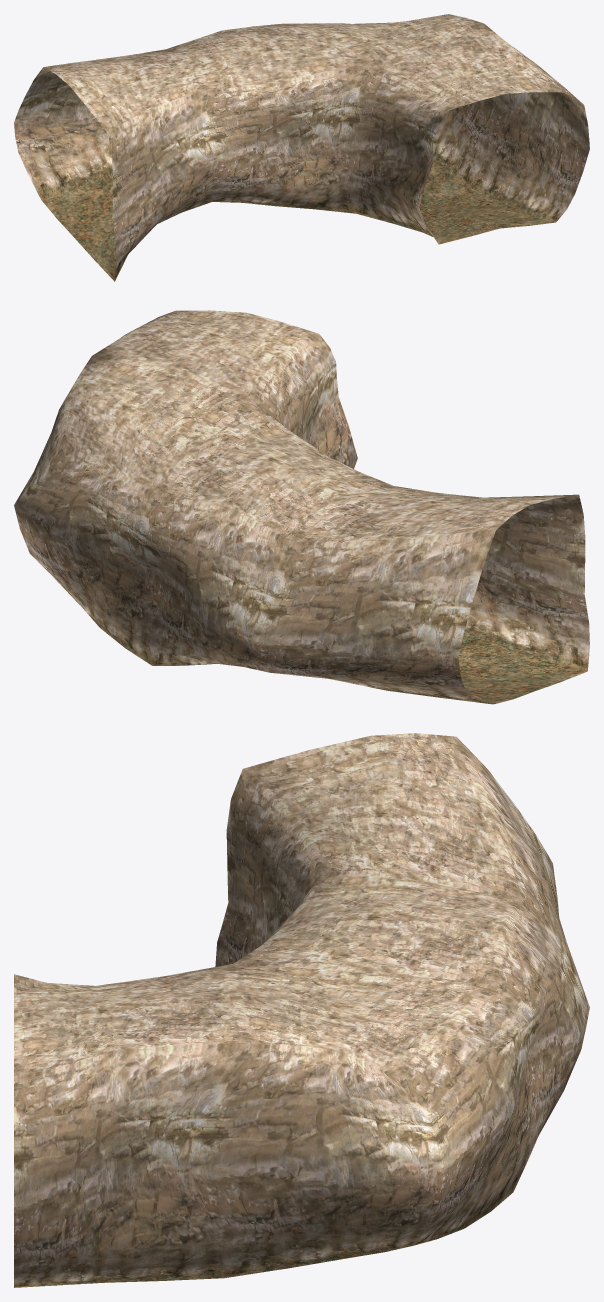
File: thm_all_cave_flatland_s02_r7_mesh_r7.fbx
The picture shows the model from 3 angles, top to bottom: view 1: azimuth 30°, elevation 25°; view 2: azimuth 150°, elevation 25°; view 3: azimuth 270°, elevation 25°; orthographic projection. The views are drawn at different scales.
Parts seen in each view (by area): view 1: mesh_node; view 2: mesh_node; view 3: mesh_node.
Part boxes in pixels (<box>): mesh_node: <box>14,14,589,281</box>; mesh_node: <box>14,310,589,704</box>; mesh_node: <box>14,733,589,1287</box>.
Bounding box in the file's own units: 30.85 × 11.75 × 22.62.
